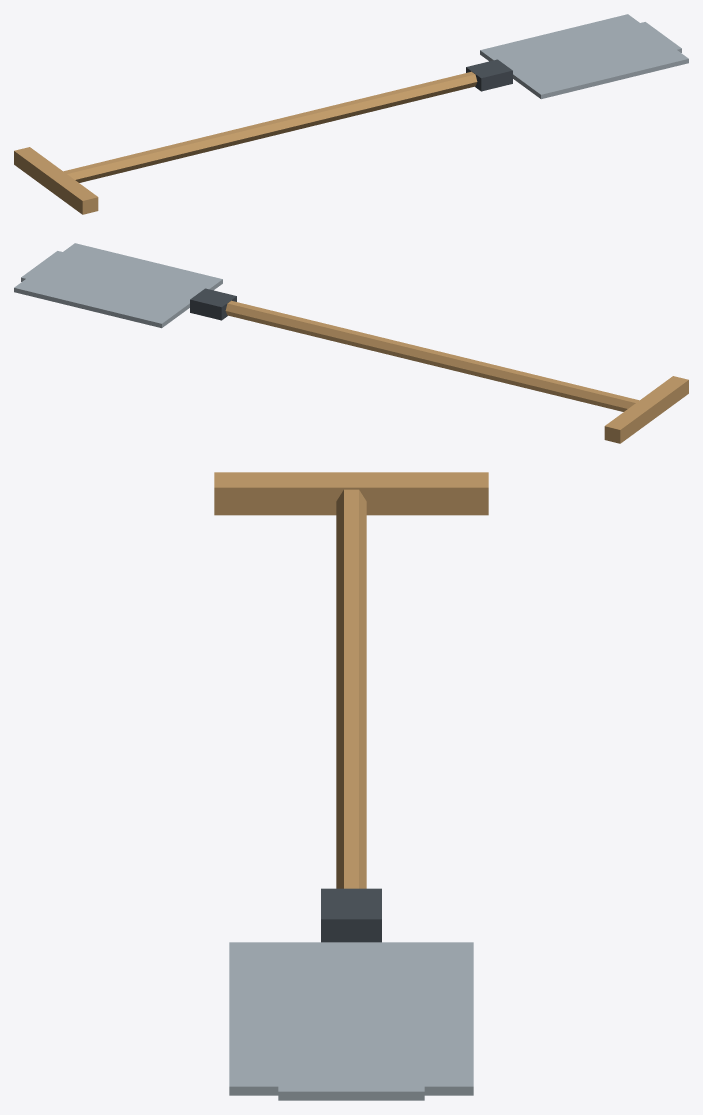
The model's file is GT_Spade_01.glb.
3 renders of one model, top to bottom at view 1: azimuth 30°, elevation 25°; view 2: azimuth 150°, elevation 25°; view 3: azimuth 270°, elevation 25°, orthographic. The views are drawn at different scales.
Visible parts, largest first — view 1: GT_Spade_01; view 2: GT_Spade_01; view 3: GT_Spade_01.
Part boxes in pixels (<box>): GT_Spade_01: <box>14,14,688,214</box>; GT_Spade_01: <box>14,243,688,443</box>; GT_Spade_01: <box>214,472,488,1100</box>.
Bounding box in the file's own units: 1.16 × 0.025 × 0.225.
Materials: 1 (1 with a texture image).
